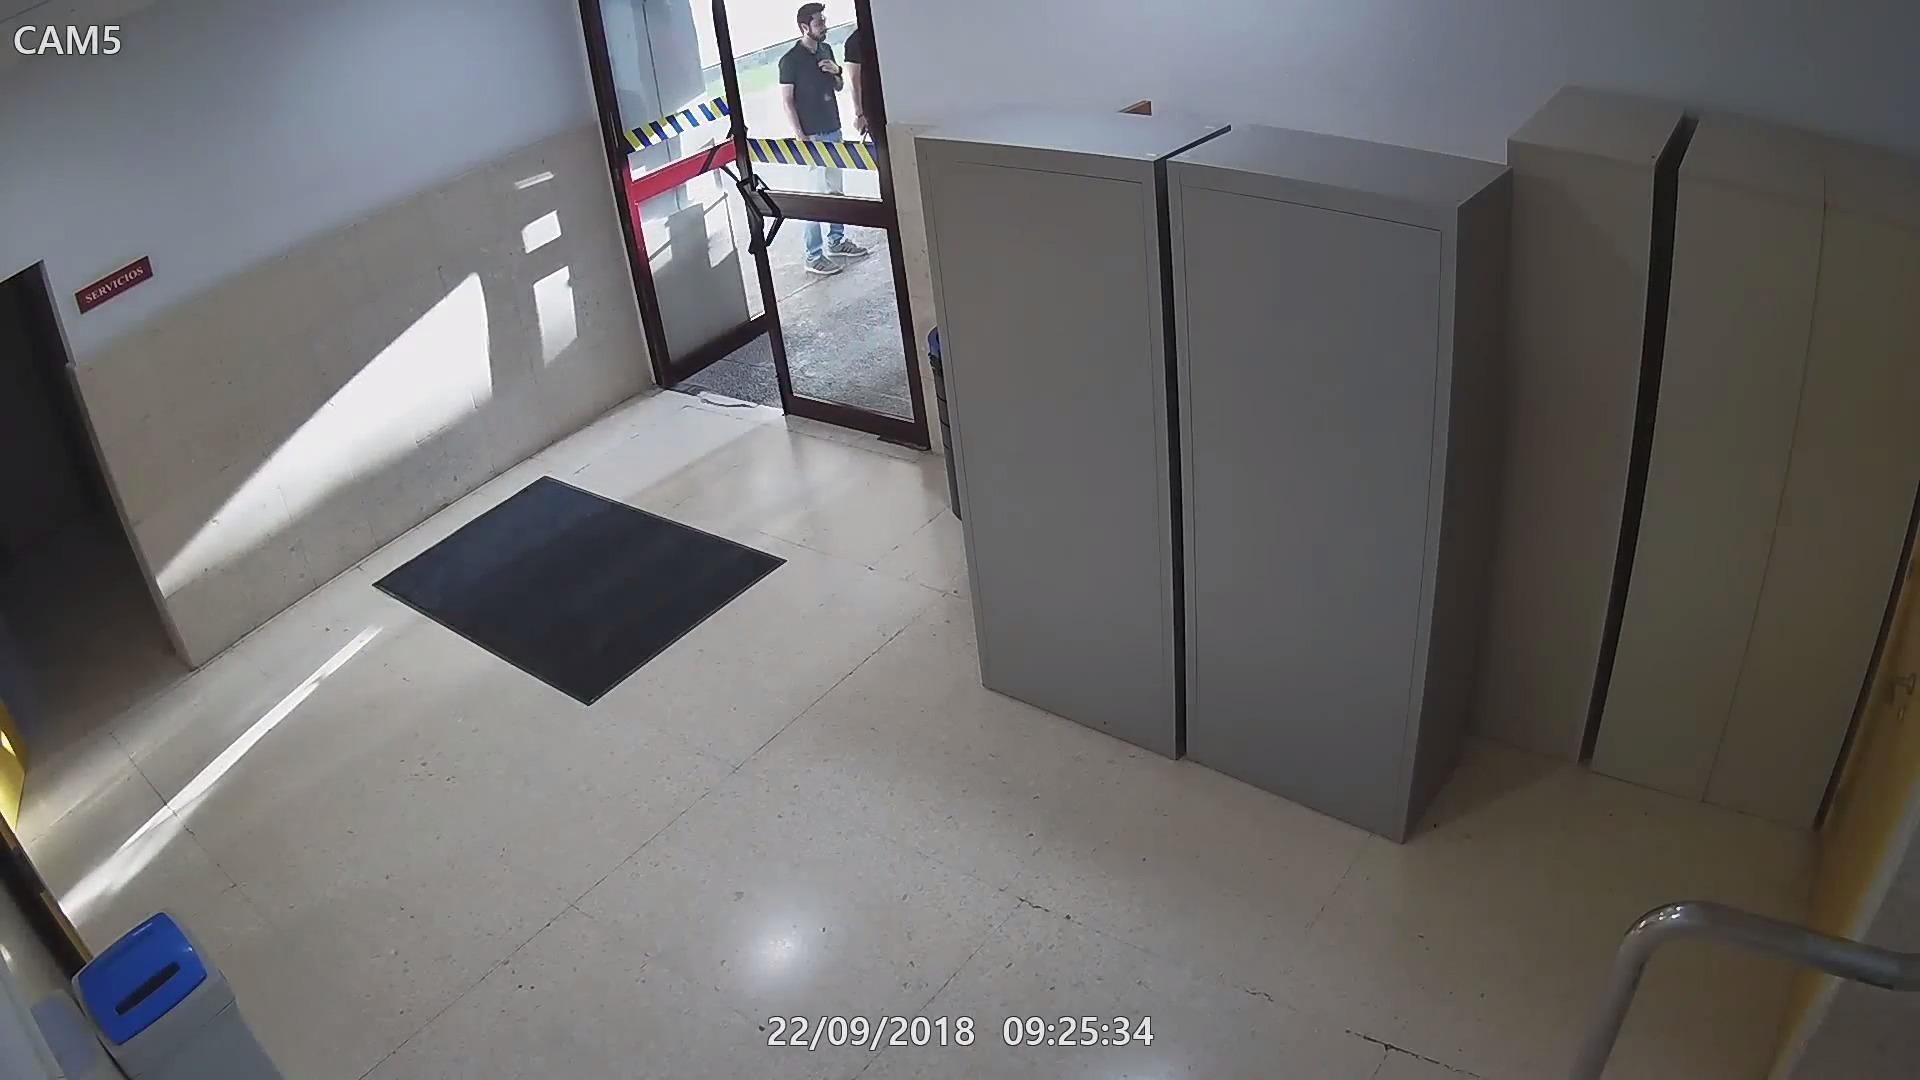Handgun: (849, 115, 876, 146)
